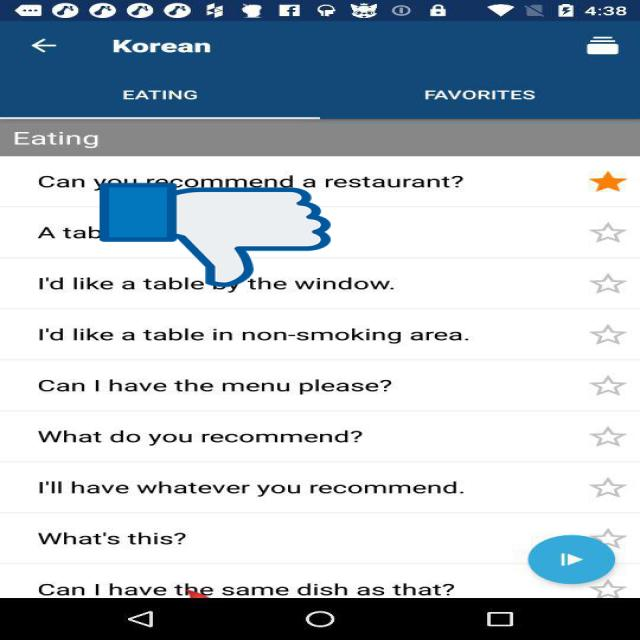obstruction: (100, 181, 330, 289)
